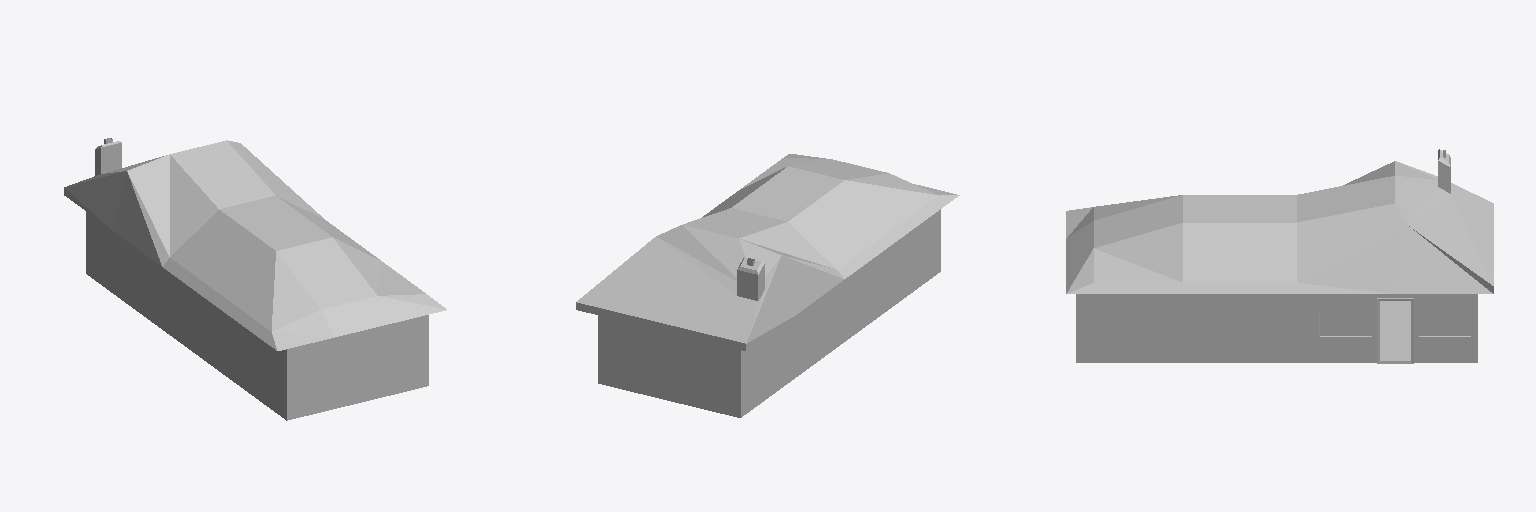
The model's file is House.obj.
The picture shows the model from 3 angles: view 1: azimuth 30°, elevation 25°; view 2: azimuth 150°, elevation 25°; view 3: azimuth 270°, elevation 25°; orthographic projection.
Visible parts, largest first — view 1: Roof_Cube.002, House_Cube.001, House-colonly_Cube.005; view 2: Roof_Cube.002, House_Cube.001, House-colonly_Cube.005; view 3: Roof_Cube.002, House_Cube.001, Windows_Cube, House-colonly_Cube.005, DoorFrame_Cube.003.
Boxes of the visible parts, x1,y1,x2,y2 form: Roof_Cube.002: [64, 138, 446, 350]; House_Cube.001: [86, 212, 428, 420]; House-colonly_Cube.005: [86, 213, 428, 419]; Roof_Cube.002: [576, 154, 959, 350]; House_Cube.001: [598, 209, 940, 417]; House-colonly_Cube.005: [598, 310, 802, 417]; Roof_Cube.002: [1066, 149, 1493, 293]; House_Cube.001: [1076, 294, 1477, 362]; Windows_Cube: [1320, 310, 1470, 335]; House-colonly_Cube.005: [1315, 294, 1436, 334]; DoorFrame_Cube.003: [1377, 298, 1413, 363].
Size of the model in its own units: 19.15 by 15.62 by 41.59.